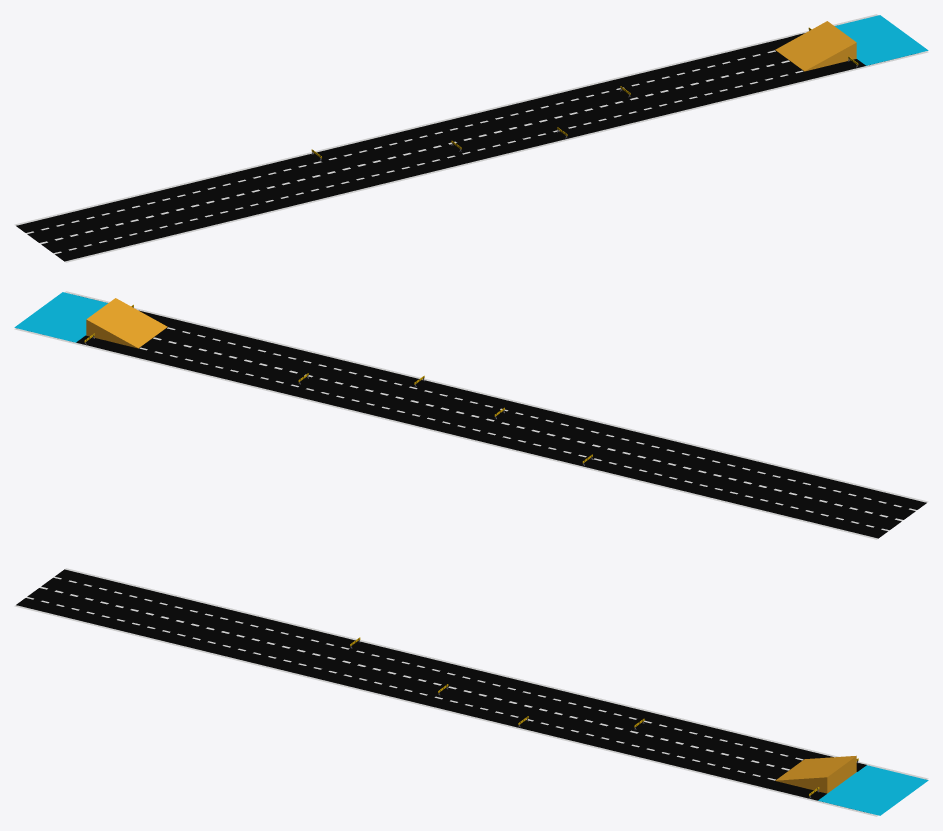
File: bölüm2.fbx
3 renders of one model, top to bottom at view 1: azimuth 30°, elevation 25°; view 2: azimuth 150°, elevation 25°; view 3: azimuth 330°, elevation 25°, orthographic.
Visible parts, largest first — view 1: Plane, Plane.001, Cube; view 2: Plane, Plane.001, Cube; view 3: Plane, Plane.001, Cube.
Part boxes in pixels (box(x1,y1,x2,y2)): Plane: box(14, 14, 928, 262); Plane.001: box(835, 15, 928, 65); Cube: box(775, 21, 856, 71); Plane: box(14, 291, 928, 539); Plane.001: box(14, 292, 107, 342); Cube: box(86, 298, 167, 348); Plane: box(14, 568, 928, 816); Plane.001: box(818, 765, 928, 815); Cube: box(775, 755, 856, 793).
Size of the model in its own units: 3807 by 98.54 by 398.
